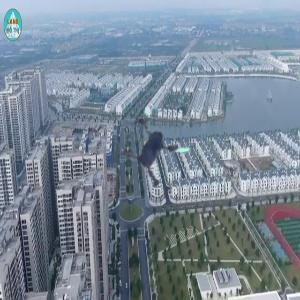drone: (112, 98, 224, 210)
